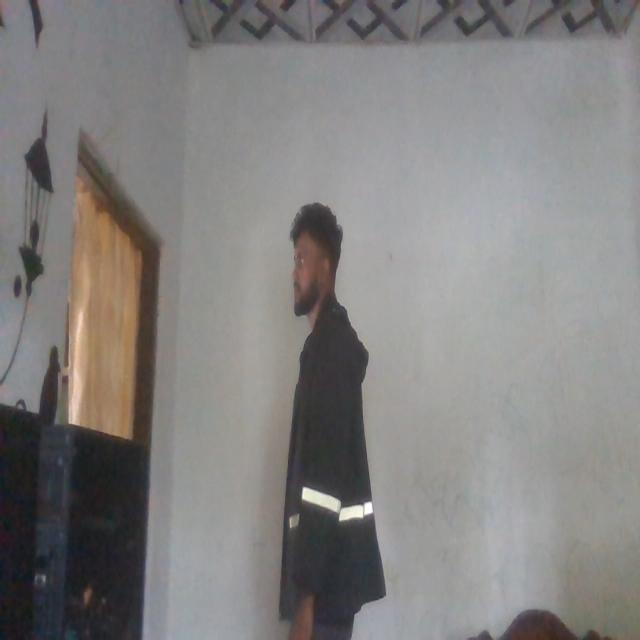Jacket_Wearer: (272, 298, 376, 628)
Person: (266, 202, 376, 640)
